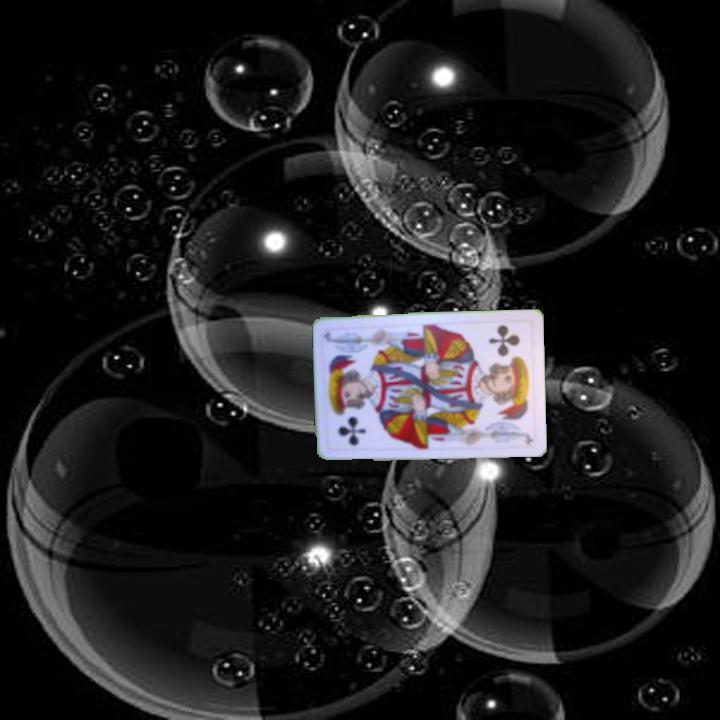c_j.png: (475, 319, 535, 387), (324, 384, 383, 452)
